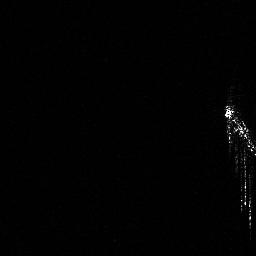ship: (219, 96, 256, 238)
